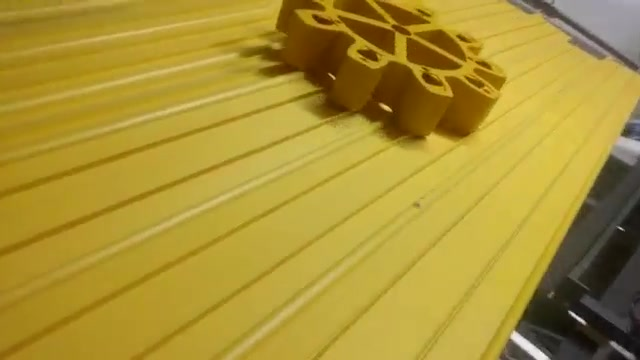gear: (264, 1, 513, 147)
